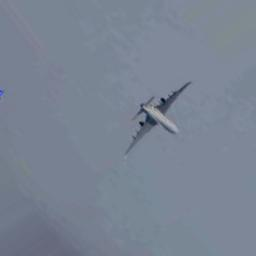Airplane: (121, 79, 192, 159)
